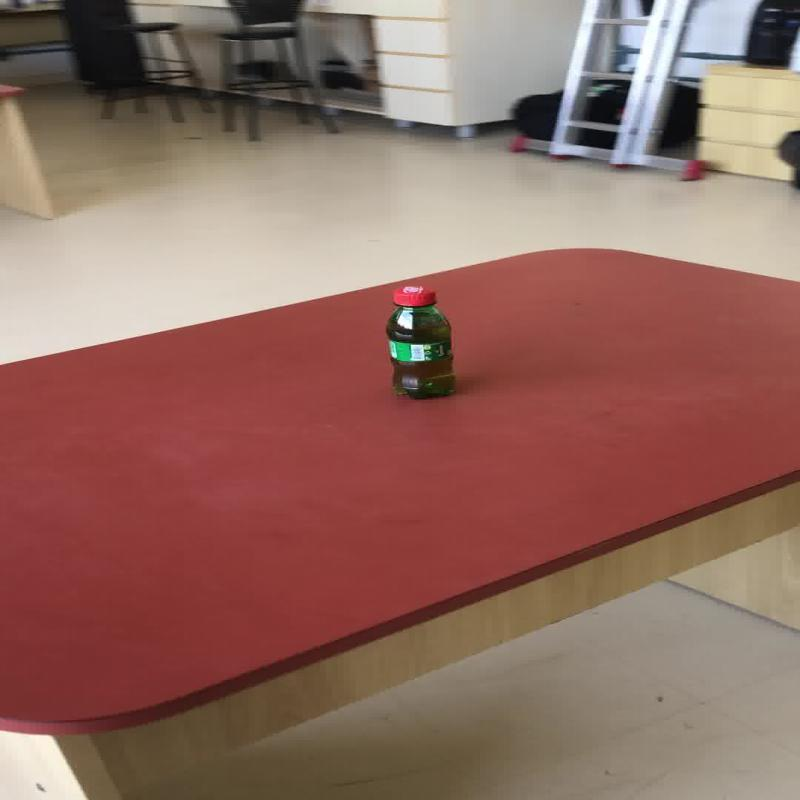guarana: (382, 284, 454, 398)
